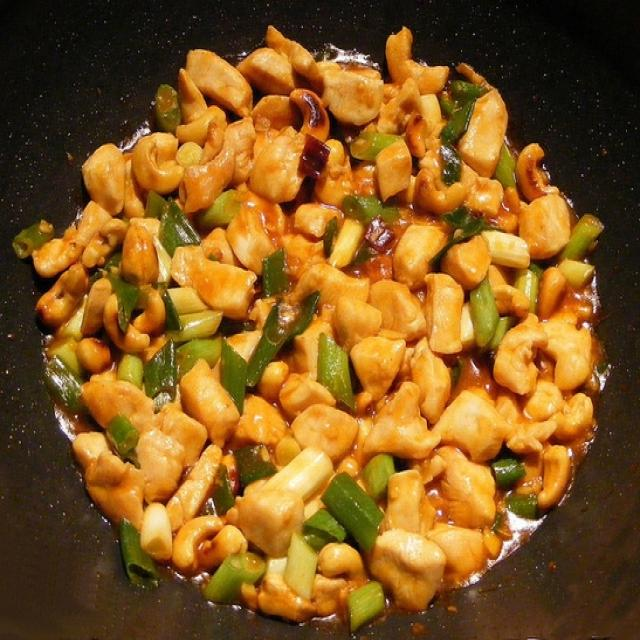鸡肉料理 含炸鸡: (18, 18, 630, 629)
